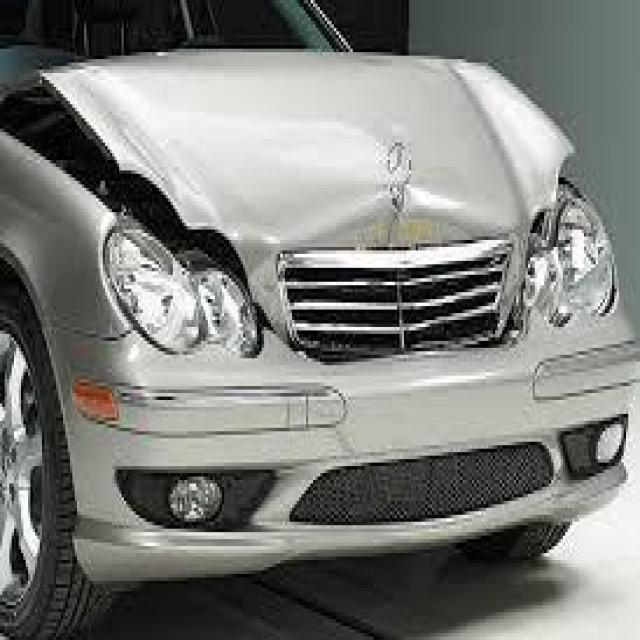damaged: (2, 62, 276, 328), (511, 136, 598, 282), (308, 192, 493, 244)
